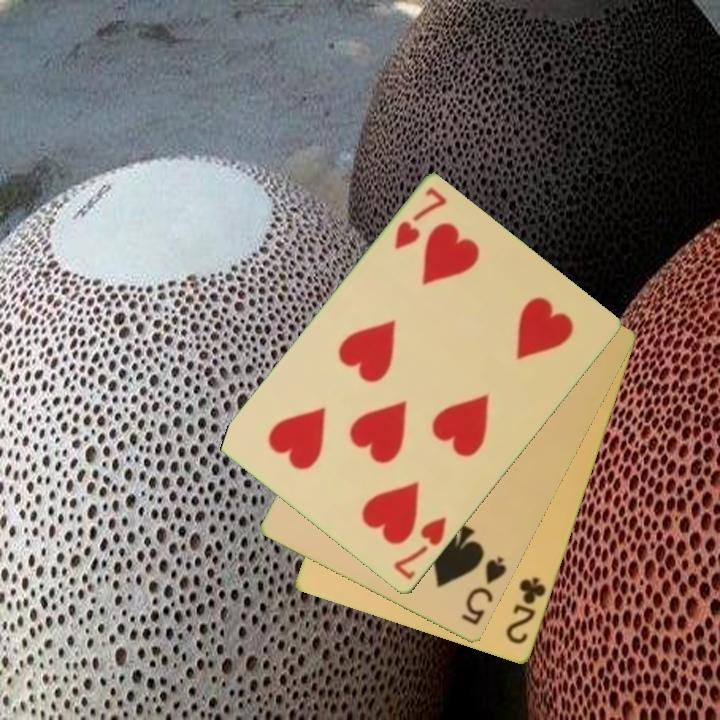2c: (502, 574, 549, 648)
5s: (457, 553, 510, 629)
7h: (390, 513, 450, 584), (391, 184, 450, 253)
